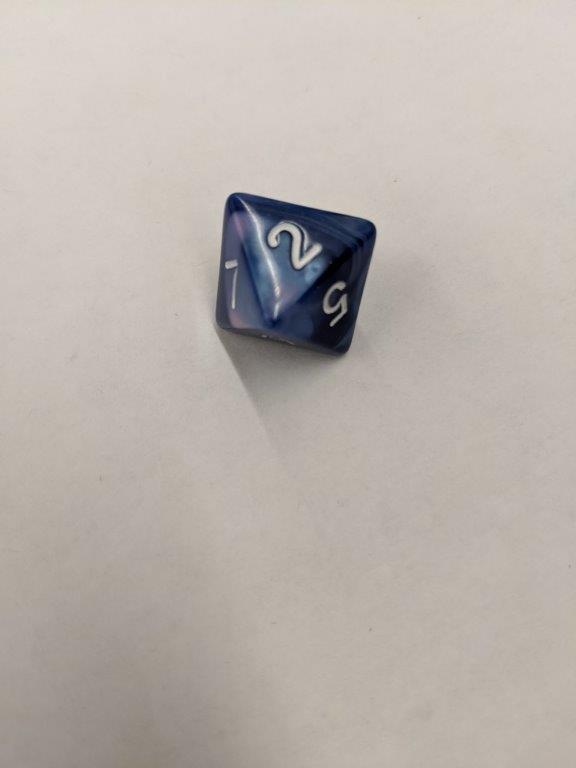d8-2: (211, 191, 379, 356)
